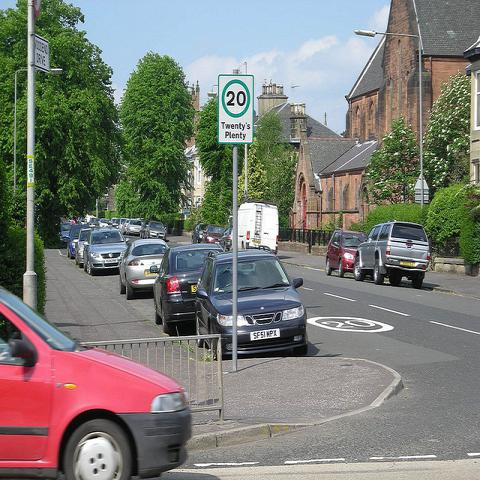car: (0, 287, 193, 473), (193, 247, 309, 361), (149, 240, 226, 334), (118, 239, 169, 300), (82, 226, 130, 276), (324, 228, 368, 279), (73, 227, 92, 268), (67, 225, 88, 258), (202, 224, 226, 245), (60, 222, 73, 248), (191, 223, 206, 244)
truck: (352, 221, 432, 289), (229, 203, 280, 255)
